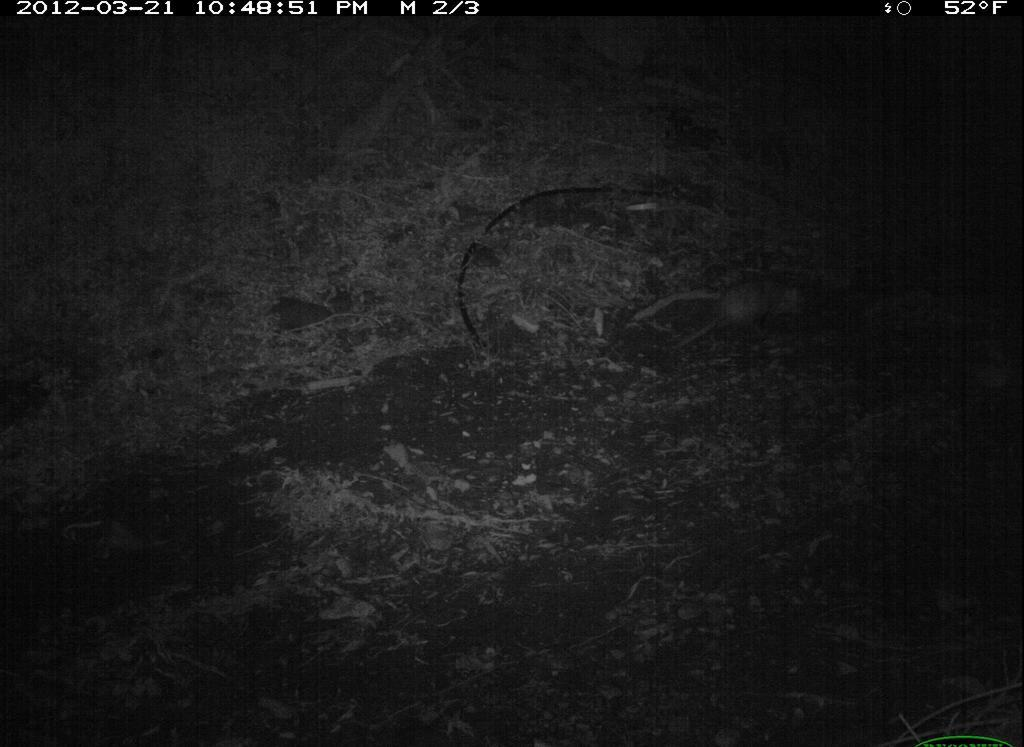opossum: (667, 272, 815, 356)
